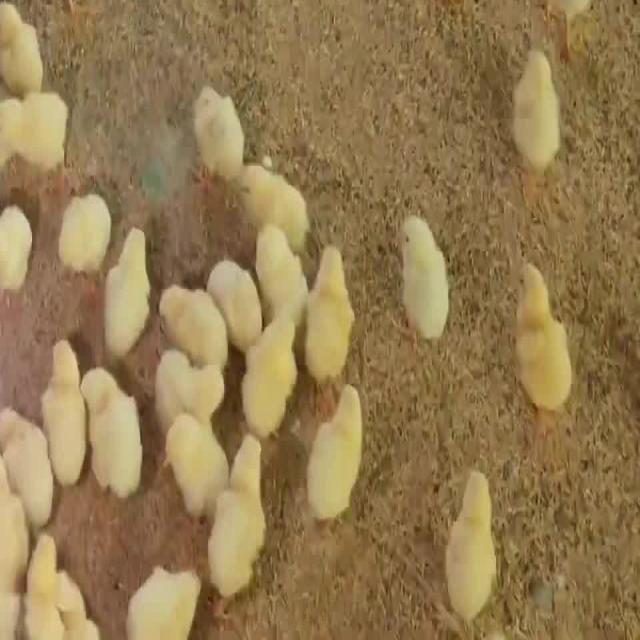poussin: (428, 469, 503, 618), (14, 499, 91, 640), (206, 431, 268, 602), (518, 261, 576, 421), (90, 210, 165, 331), (118, 526, 198, 638), (0, 69, 82, 177), (80, 356, 144, 493), (246, 286, 306, 424), (244, 135, 314, 250), (396, 203, 454, 341), (44, 334, 96, 486), (296, 252, 348, 399), (183, 72, 254, 176), (162, 414, 231, 521), (158, 272, 230, 374), (511, 49, 563, 189), (308, 380, 358, 525), (0, 412, 57, 531), (248, 224, 311, 311), (50, 192, 120, 268), (207, 257, 265, 344), (152, 358, 223, 428), (0, 196, 37, 293)
